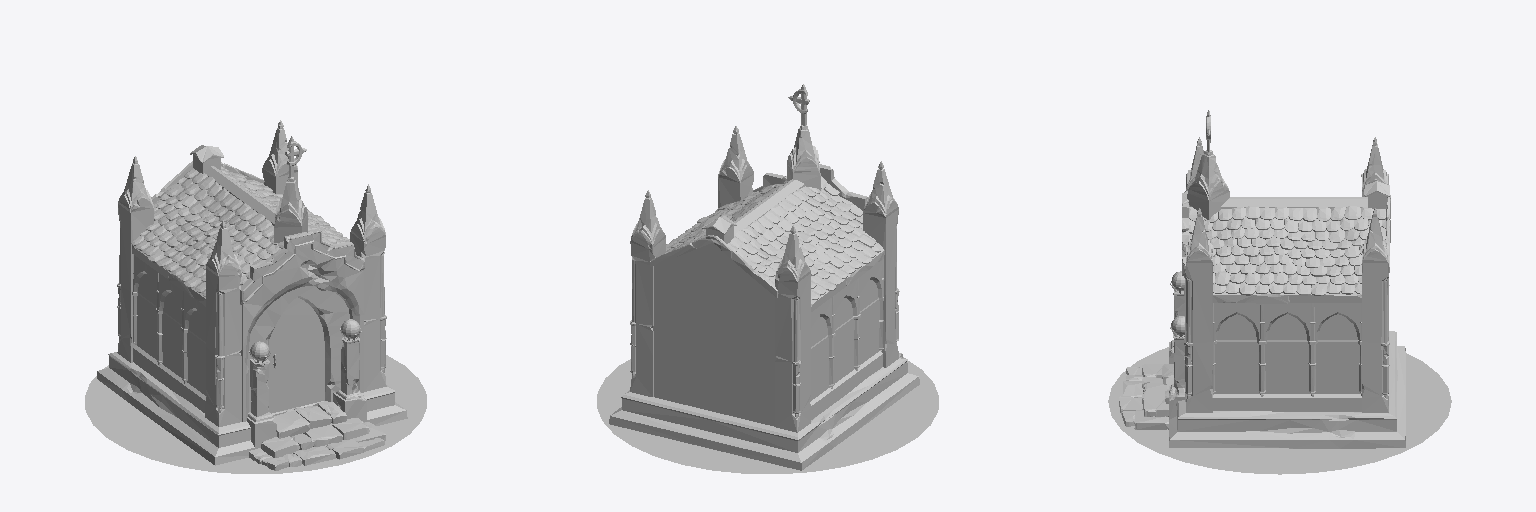
File: crypt.obj
3 views of the same model, side by side, from view 1: azimuth 30°, elevation 25°; view 2: azimuth 150°, elevation 25°; view 3: azimuth 270°, elevation 25° (orthographic).
Parts seen in each view (by area): view 1: tower_low.001, roof_tiles_low.001, Circle, side_down_low.001, side_low.001, front1_low.001, front_door_low.001, front2_low.001, roof_front_low.001, roof_krest_low.001, front_column_low.001, front_column_low.003 (+10 smaller); view 2: back_low.001, tower_low.001, side_down_low.001, roof_tiles_low.001, Circle, side_low.001, roof_krest_low.001, roof_back_low.001, roof_balka_low.001, roof_front_low.001, tower_column_low.001, side_column_low.001 (+2 smaller); view 3: side_low.001, roof_tiles_low.001, tower_low.001, side_down_low.001, Circle, roof_krest_low.001, roof_balka_low.001, side_balka_low.001, side_column_low.001, front_column_low.003, tower_column_low.001, roof_house_low.001.
Part boxes in pixels (x1,y1,x2,y2): tower_low.001: (117,120,386,426); roof_tiles_low.001: (131,166,349,296); Circle: (85,355,426,473); side_down_low.001: (97,352,407,465); side_low.001: (133,255,206,412); front1_low.001: (241,244,363,421); front_door_low.001: (267,297,324,413); front2_low.001: (249,286,349,411); roof_front_low.001: (240,229,364,304); roof_krest_low.001: (274,136,307,242); front_column_low.001: (247,358,276,448); front_column_low.003: (333,337,366,421); back_low.001: (653,243,775,426); tower_low.001: (630,126,898,432); side_down_low.001: (609,357,919,470); roof_tiles_low.001: (664,176,882,302); Circle: (597,357,938,473); side_low.001: (810,260,882,419); roof_krest_low.001: (787,84,820,190); roof_back_low.001: (650,235,777,297); roof_balka_low.001: (734,179,804,235); roof_front_low.001: (753,164,867,210); tower_column_low.001: (630,288,899,418); side_column_low.001: (828,297,883,388); side_low.001: (1213,231,1361,411); roof_tiles_low.001: (1188,205,1385,295); tower_low.001: (1185,137,1388,412); side_down_low.001: (1168,331,1405,448); Circle: (1108,347,1451,474); roof_krest_low.001: (1187,110,1229,219); roof_balka_low.001: (1221,197,1367,208); side_balka_low.001: (1213,221,1361,303); side_column_low.001: (1213,340,1361,396); front_column_low.003: (1169,334,1184,419); tower_column_low.001: (1184,285,1389,398); roof_house_low.001: (1364,180,1389,208).
Bounding box in the file's own units: 6.49 × 6.08 × 6.49.